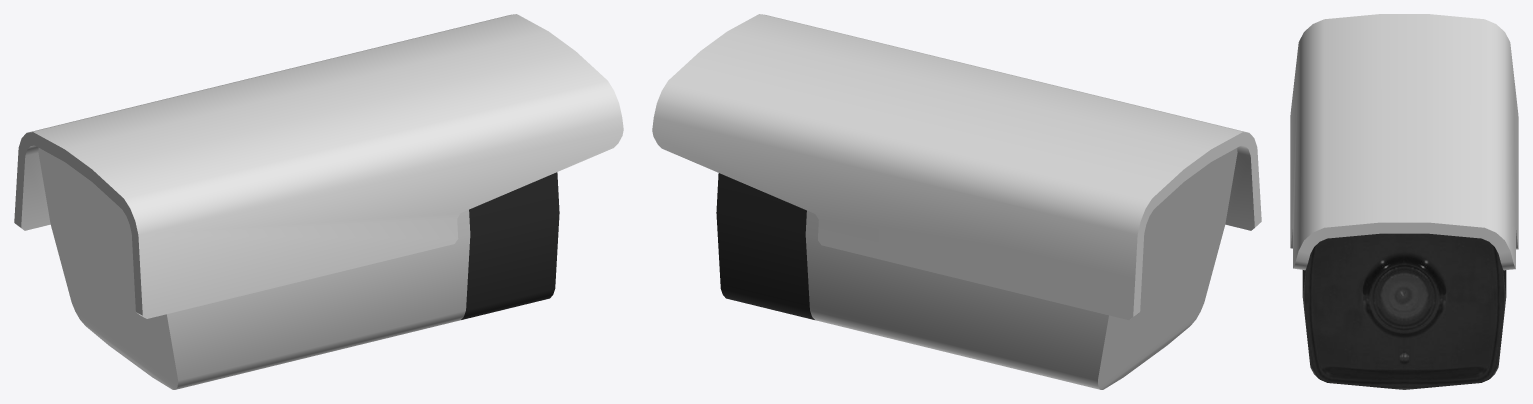
The model's file is qiangji.gltf.
3 renders of one model, left to right at view 1: azimuth 30°, elevation 25°; view 2: azimuth 150°, elevation 25°; view 3: azimuth 270°, elevation 25°, orthographic. The views are drawn at different scales.
Visible parts, largest first — view 1: WBZQJ; view 2: WBZQJ; view 3: WBZQJ.
Part boxes in pixels (x1=…): WBZQJ: x1=14, y1=14, x2=623, y2=389; WBZQJ: x1=652, y1=14, x2=1261, y2=389; WBZQJ: x1=1290, y1=14, x2=1518, y2=389.
Size of the model in its own units: 0.4002 by 0.1829 by 0.185.
3 materials, 3 textured.
